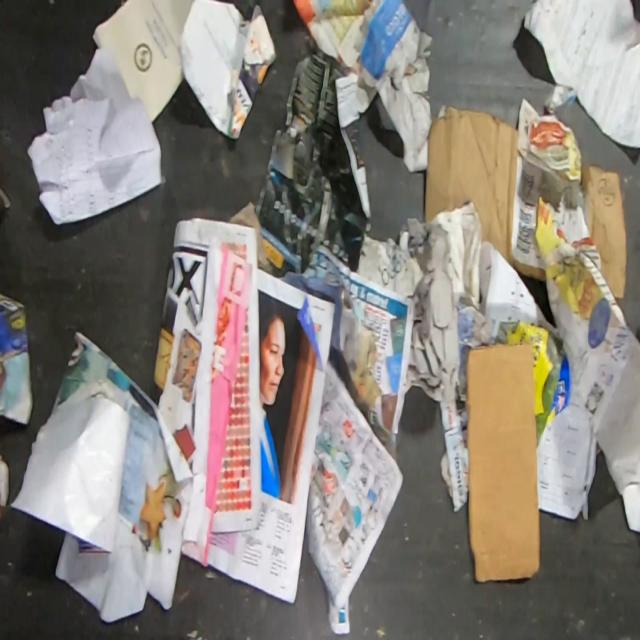cardboard: (424, 100, 628, 300), (465, 340, 540, 581)
